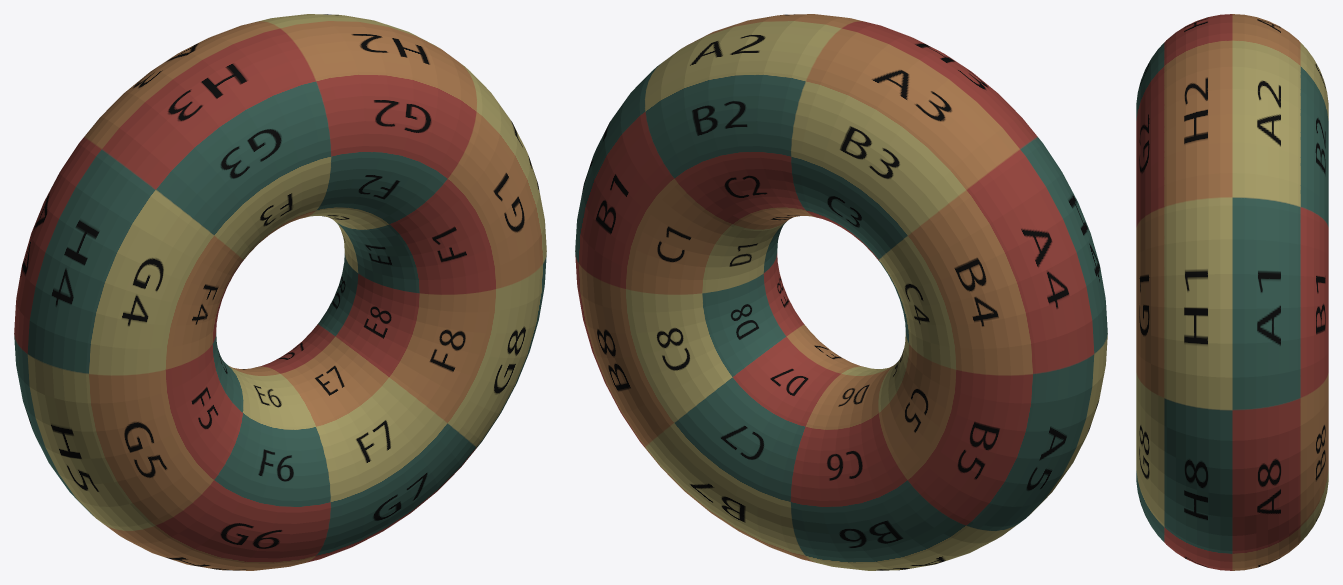
Rendered from texture_torus_R2_r15.glb.
3 views of the same model, side by side, from view 1: azimuth 30°, elevation 25°; view 2: azimuth 150°, elevation 25°; view 3: azimuth 270°, elevation 25° (orthographic). The views are drawn at different scales.
Parts seen in each view (by area): view 1: world; view 2: world; view 3: world.
Part boxes in pixels (left/top/right/bottom): world: left=14, top=14, right=546, bottom=570; world: left=575, top=14, right=1107, bottom=570; world: left=1136, top=14, right=1328, bottom=570.
Bounding box in the file's own units: 17.33 × 17.3 × 5.99.
Materials: 1 (1 with a texture image).
